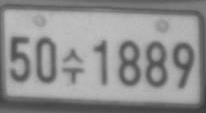0: (34, 36, 57, 83)
1: (91, 39, 114, 86)
5: (9, 36, 31, 82)
8: (143, 39, 168, 87), (117, 39, 141, 86)
9: (172, 42, 195, 88)
수: (61, 48, 84, 84)
